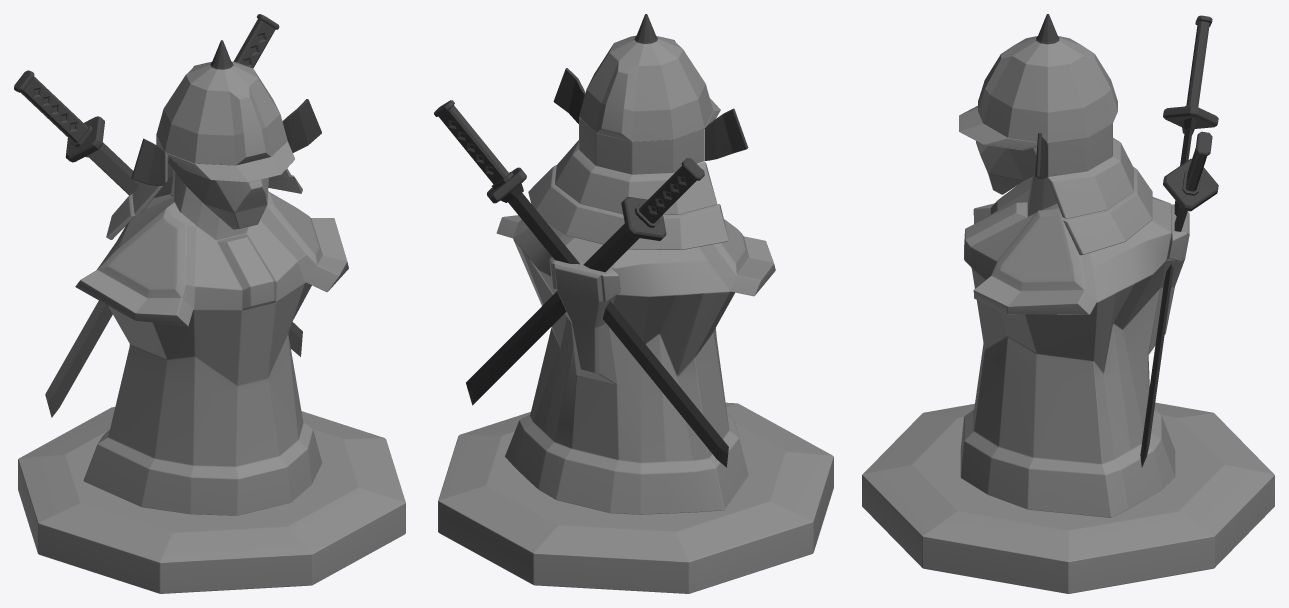
Rendered from samuray_b_w.glb.
3 views of the same model, side by side, from view 1: azimuth 30°, elevation 25°; view 2: azimuth 150°, elevation 25°; view 3: azimuth 270°, elevation 25° (orthographic). The views are drawn at different scales.
Parts seen in each view (by area): view 1: b_O2_2; view 2: b_O2_2; view 3: b_O2_2.
Part boxes in pixels (box(x1,y1,x2,y2)): b_O2_2: box(14, 14, 405, 593); b_O2_2: box(434, 14, 833, 593); b_O2_2: box(862, 14, 1274, 593).
Bounding box in the file's own units: 1.65 × 2.21 × 1.65.
Materials: 1 (1 with a texture image).
